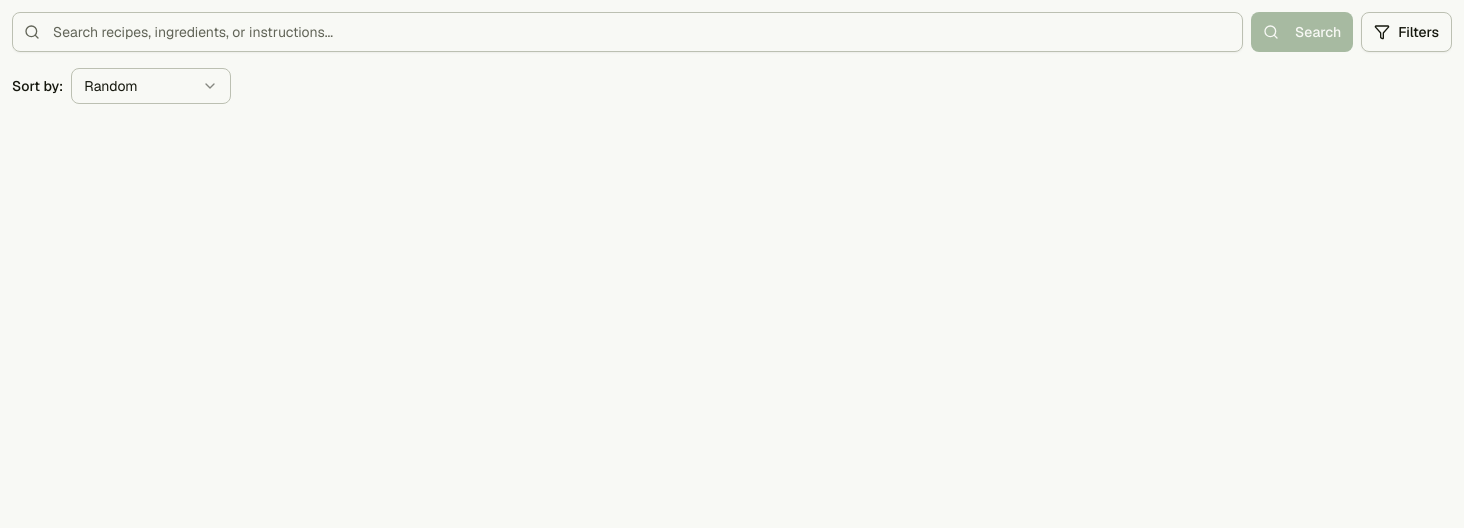
Test: RecipeSearch - Keyboard Navigation (Task 8.2) › Tab Order › should maintain tab order when filters are opened
// Open filters
Step 1. Click the button "Filters" → {"x": 1407, "y": 32}, box [1361,12,1452,52]
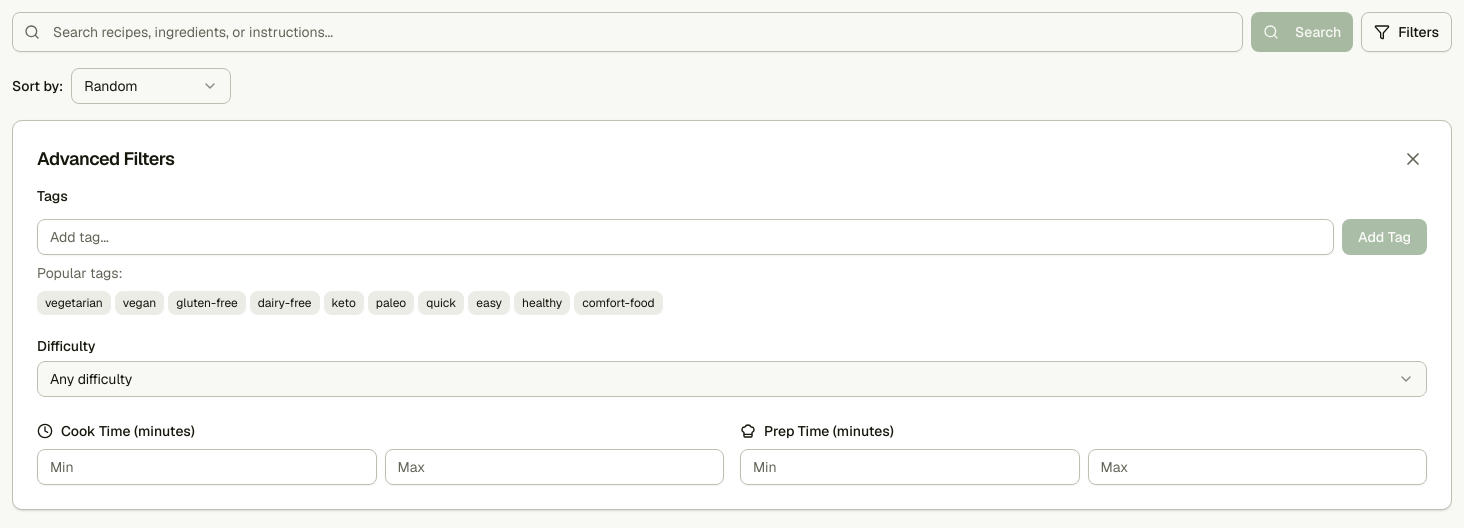
Check: the field labelled "Search recipes, ingredients, or instructions..." is shown, box [12,12,1243,52]
Check: the element "Advanced Filters" is shown
